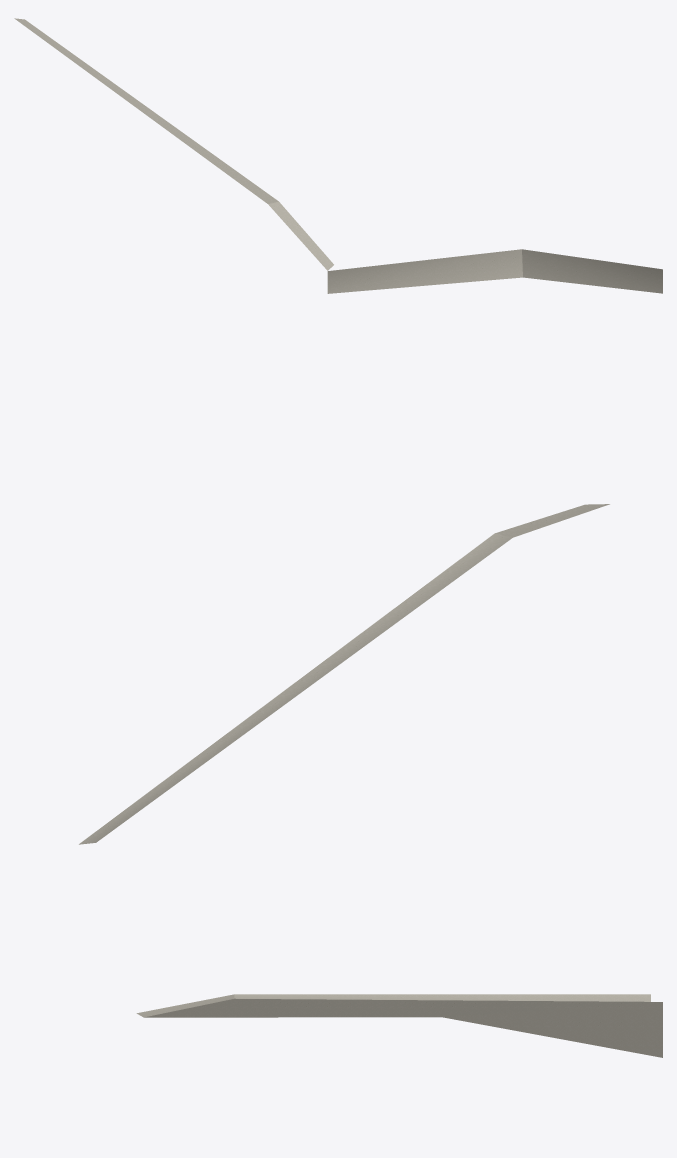
File: kd_stage_136282_3_54.glb
3 views of the same model, one above another, from view 1: azimuth 30°, elevation 25°; view 2: azimuth 150°, elevation 25°; view 3: azimuth 270°, elevation 25° (orthographic). The views are drawn at different scales.
Parts seen in each view (by area): view 1: kd_stage_136282_3_54; view 2: kd_stage_136282_3_54; view 3: kd_stage_136282_3_54.
Boxes of the visible parts, left/top/right/bottom form: kd_stage_136282_3_54: left=14, top=18, right=662, bottom=293; kd_stage_136282_3_54: left=79, top=504, right=609, bottom=844; kd_stage_136282_3_54: left=136, top=994, right=662, bottom=1057.
Size of the model in its own units: 3.59 by 0.9498 by 9.43.
Materials: 1 (1 with a texture image).
